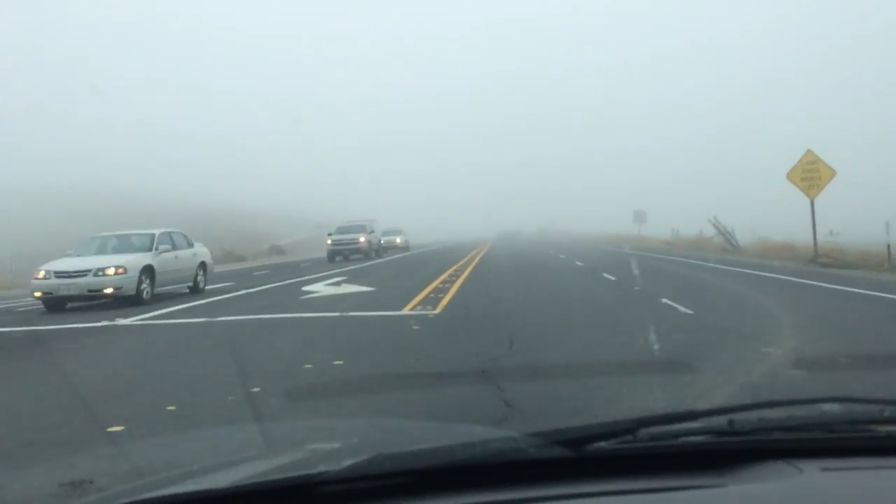car: (29, 227, 215, 313), (325, 222, 383, 263), (377, 227, 410, 252)
